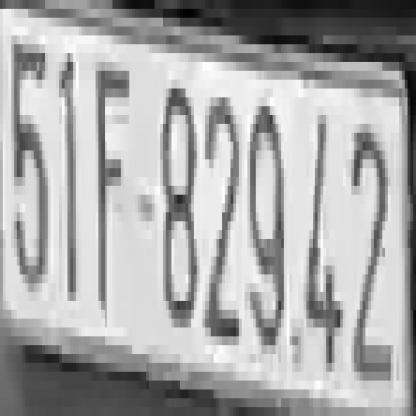1: (56, 62, 87, 283)
2: (348, 141, 388, 372), (205, 98, 236, 336)
4: (306, 124, 340, 363)
5: (11, 44, 48, 274)
8: (160, 88, 197, 318)
9: (247, 107, 281, 336)
F: (96, 71, 129, 301)
